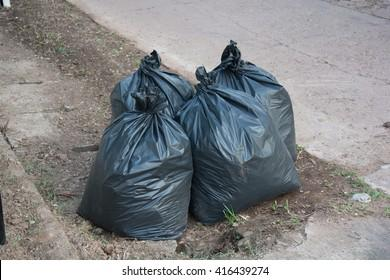pavement: (72, 0, 390, 172)
road: (0, 258, 387, 278)
trash: (78, 50, 194, 240), (177, 68, 300, 224), (210, 40, 295, 160)
